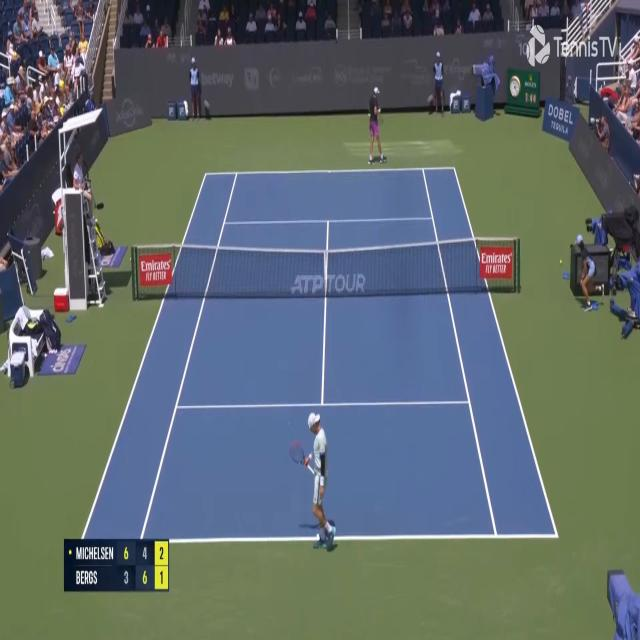tennis-player: (288, 409, 338, 552), (365, 83, 387, 166)
